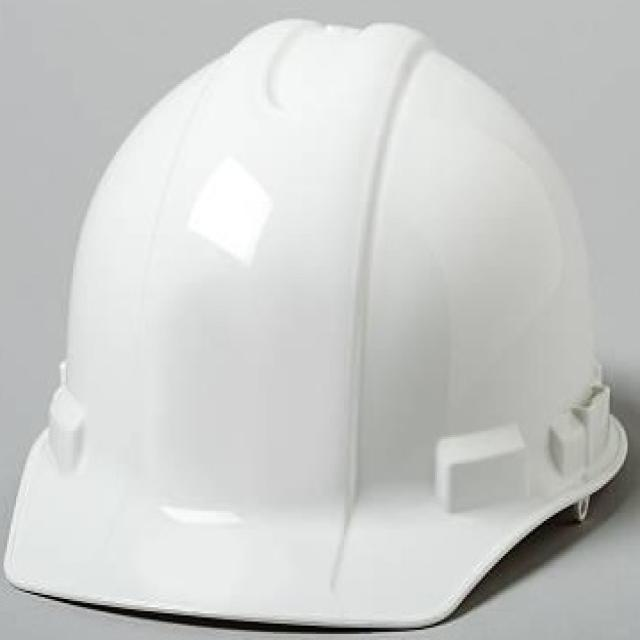helmet_white: (4, 3, 636, 637)
